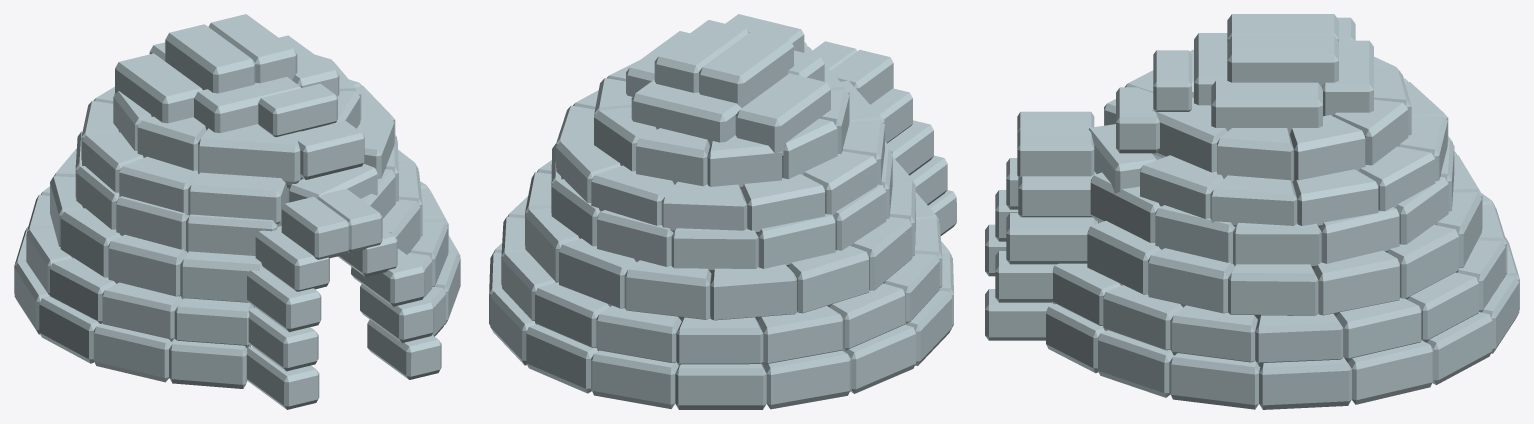
Rendered from iglu.fbx.
3 renders of one model, left to right at view 1: azimuth 30°, elevation 25°; view 2: azimuth 150°, elevation 25°; view 3: azimuth 270°, elevation 25°, orthographic. The views are drawn at different scales.
Parts seen in each view (by area): view 1: Cube.001, Cube.002, Cube.004, Cube, Cube.005, Cube.003, Cube.010, Cube.009, Cube.024, Cube.021, Cube.011, Cube.008 (+12 smaller); view 2: Cube.001, Cube, Cube.002, Cube.004, Cube.003, Cube.005, Cube.009, Cube.010, Cube.006, Cube.011, Cube.021, Cube.017 (+7 smaller); view 3: Cube.001, Cube, Cube.002, Cube.004, Cube.003, Cube.005, Cube.011, Cube.007, Cube.016, Cube.020, Cube.018, Cube.006 (+11 smaller).
Boxes of the visible parts, x1,y1,x2,y2 form: Cube.001: (26,177,448,348); Cube.002: (50,148,422,307); Cube.004: (81,79,395,224); Cube: (14,187,460,388); Cube.005: (113,54,361,185); Cube.003: (75,131,398,255); Cube.010: (165,24,255,93); Cube.009: (115,53,202,123); Cube.024: (258,83,337,137); Cube.021: (281,196,349,259); Cube.011: (208,14,297,83); Cube.008: (194,77,301,133); Cube.001: (501,192,942,366); Cube: (489,241,953,409); Cube.002: (525,157,915,321); Cube.004: (556,80,884,234); Cube.003: (551,141,892,273); Cube.005: (594,46,849,188); Cube.009: (735,73,830,157); Cube.010: (699,30,793,107); Cube.006: (631,79,741,146); Cube.011: (654,20,748,92); Cube.021: (831,50,893,104); Cube.017: (887,120,933,175); Cube.001: (1051,193,1507,366); Cube: (1046,237,1519,409); Cube.002: (1087,151,1482,319); Cube.004: (1104,78,1448,227); Cube.003: (1090,136,1454,269); Cube.005: (1125,49,1411,182); Cube.011: (1227,36,1338,87); Cube.007: (1211,80,1322,133); Cube.016: (1006,213,1097,264); Cube.020: (1017,129,1094,178); Cube.018: (1018,171,1096,217); Cube.006: (1322,40,1373,116).
Size of the model in its own units: 1261 by 791 by 1403.
